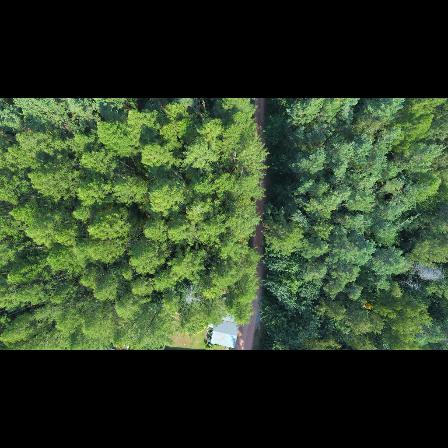Dead: (411, 260, 445, 284), (398, 276, 420, 295), (182, 284, 200, 307)
